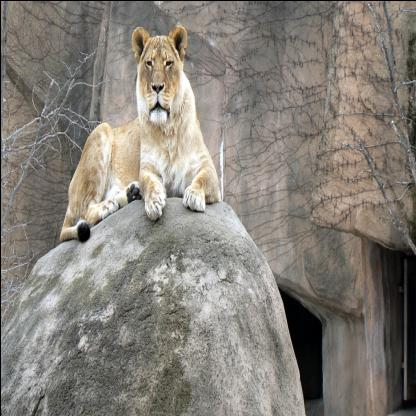lion: (121, 18, 196, 132)
